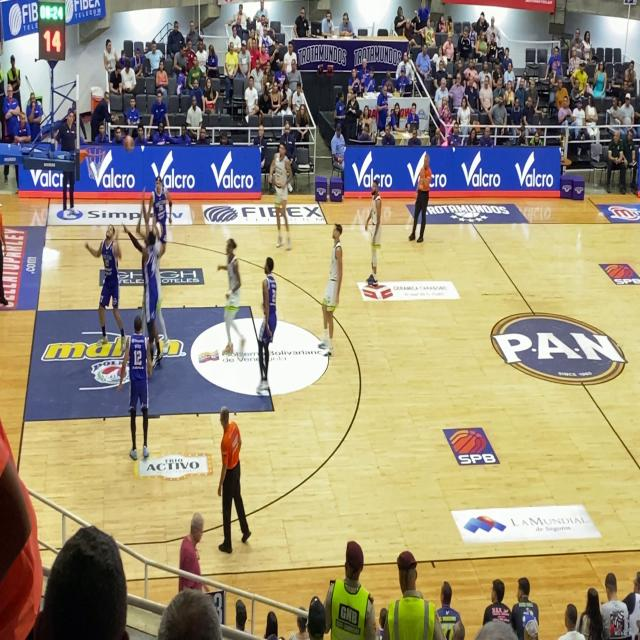Ball: (123, 134, 136, 157)
referee: (204, 392, 252, 555), (414, 152, 440, 252)
team1: (264, 134, 293, 244), (364, 174, 388, 288), (216, 228, 240, 339)
team2: (123, 306, 160, 454), (89, 216, 124, 356), (126, 215, 162, 325), (259, 245, 286, 376), (147, 167, 176, 255)
ubasket: (83, 143, 106, 183)
